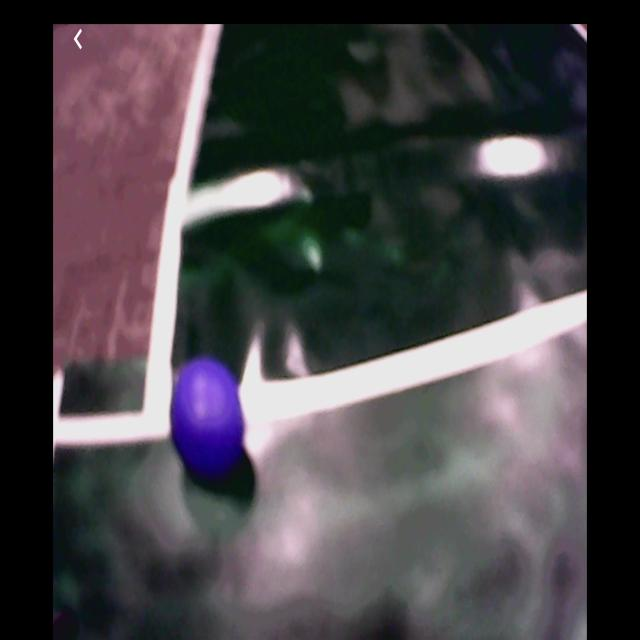ball: (171, 359, 247, 477)
